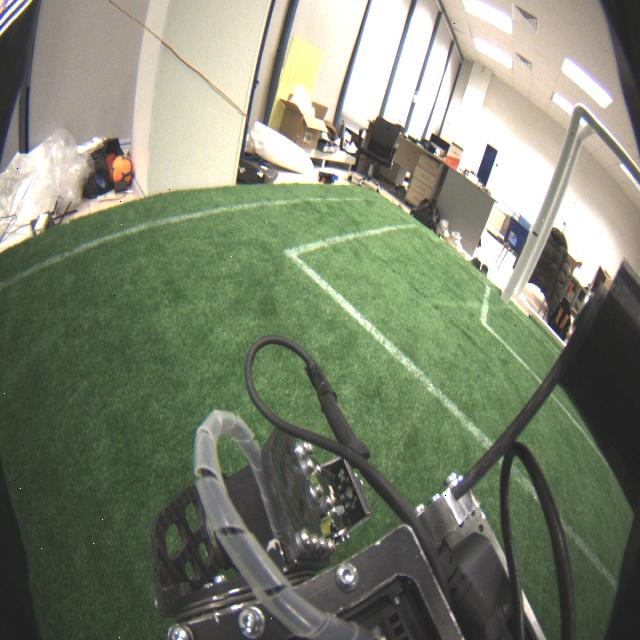goalpost: (500, 101, 613, 303)
